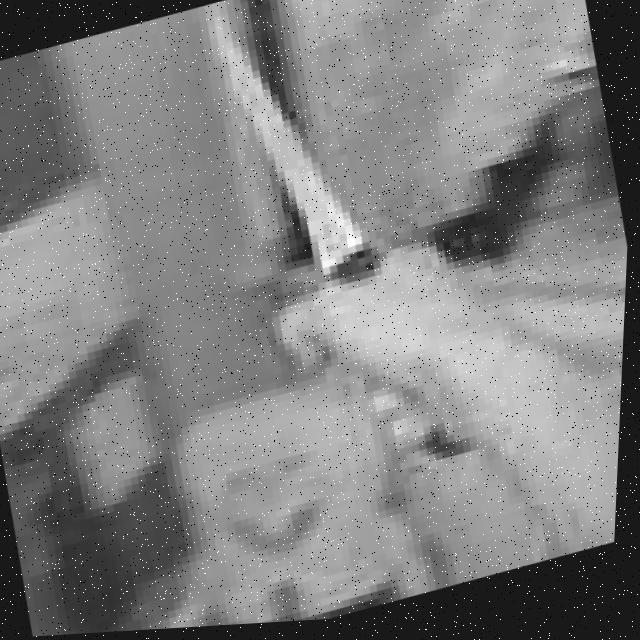knife: (213, 22, 376, 295)
